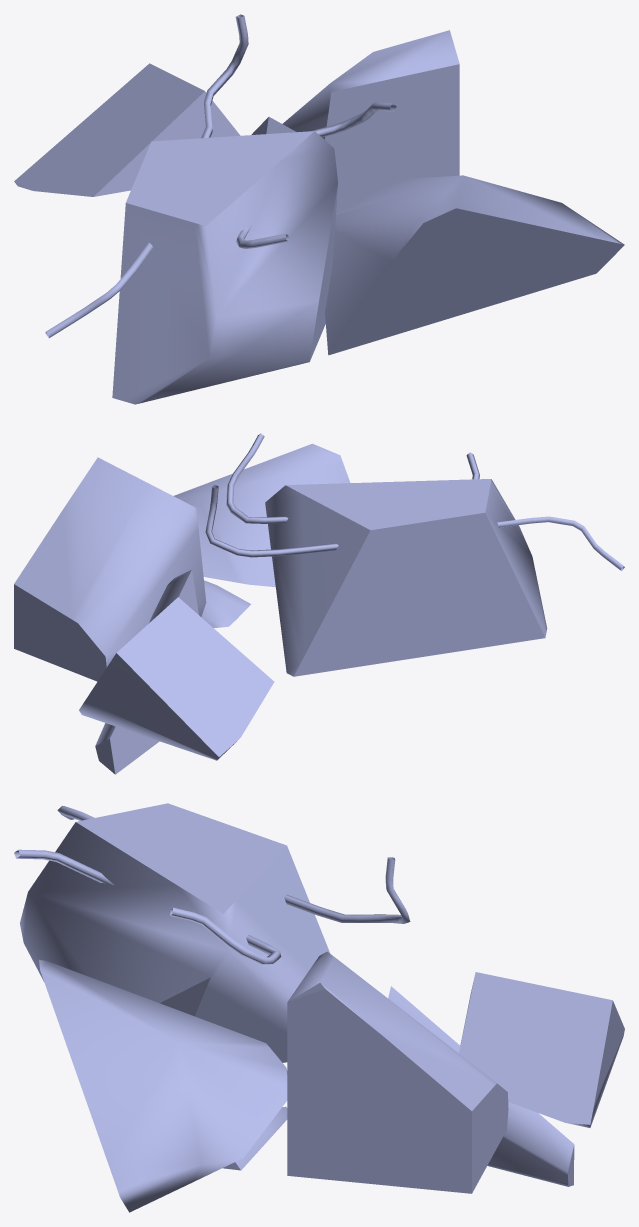
Rendered from ConcreteStackCell_03.fbx.
3 views of the same model, one above another, from view 1: azimuth 30°, elevation 25°; view 2: azimuth 150°, elevation 25°; view 3: azimuth 270°, elevation 25° (orthographic). The views are drawn at different scales.
Visible parts, largest first — view 1: Concrete_Stack_Cell_03_LOD0; view 2: Concrete_Stack_Cell_03_LOD0; view 3: Concrete_Stack_Cell_03_LOD0.
Boxes of the visible parts, x1,y1,x2,y2 form: Concrete_Stack_Cell_03_LOD0: (14,14,624,404); Concrete_Stack_Cell_03_LOD0: (14,433,624,774); Concrete_Stack_Cell_03_LOD0: (14,803,624,1212).
Size of what is drawn, in the model's own units: 1.54 by 0.7223 by 1.29.
